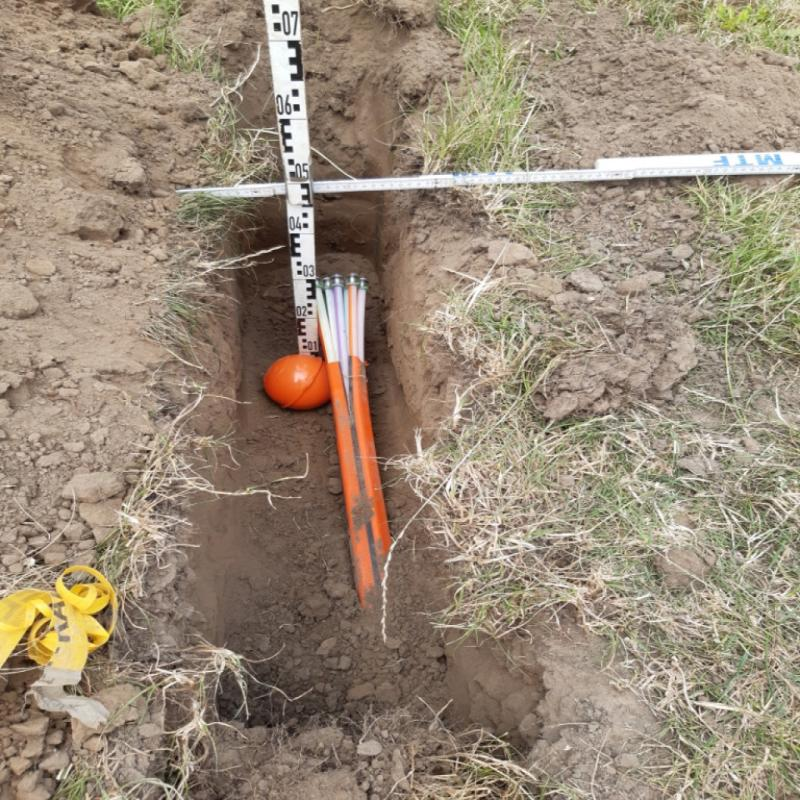Kugelmarker: (257, 354, 328, 408)
Orang-Speednetrohrchen: (325, 359, 397, 610)
